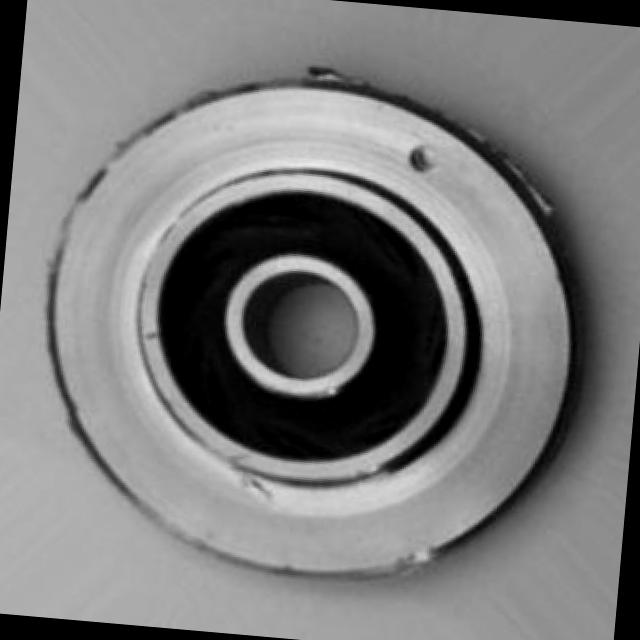Defect: (400, 142, 451, 180)
